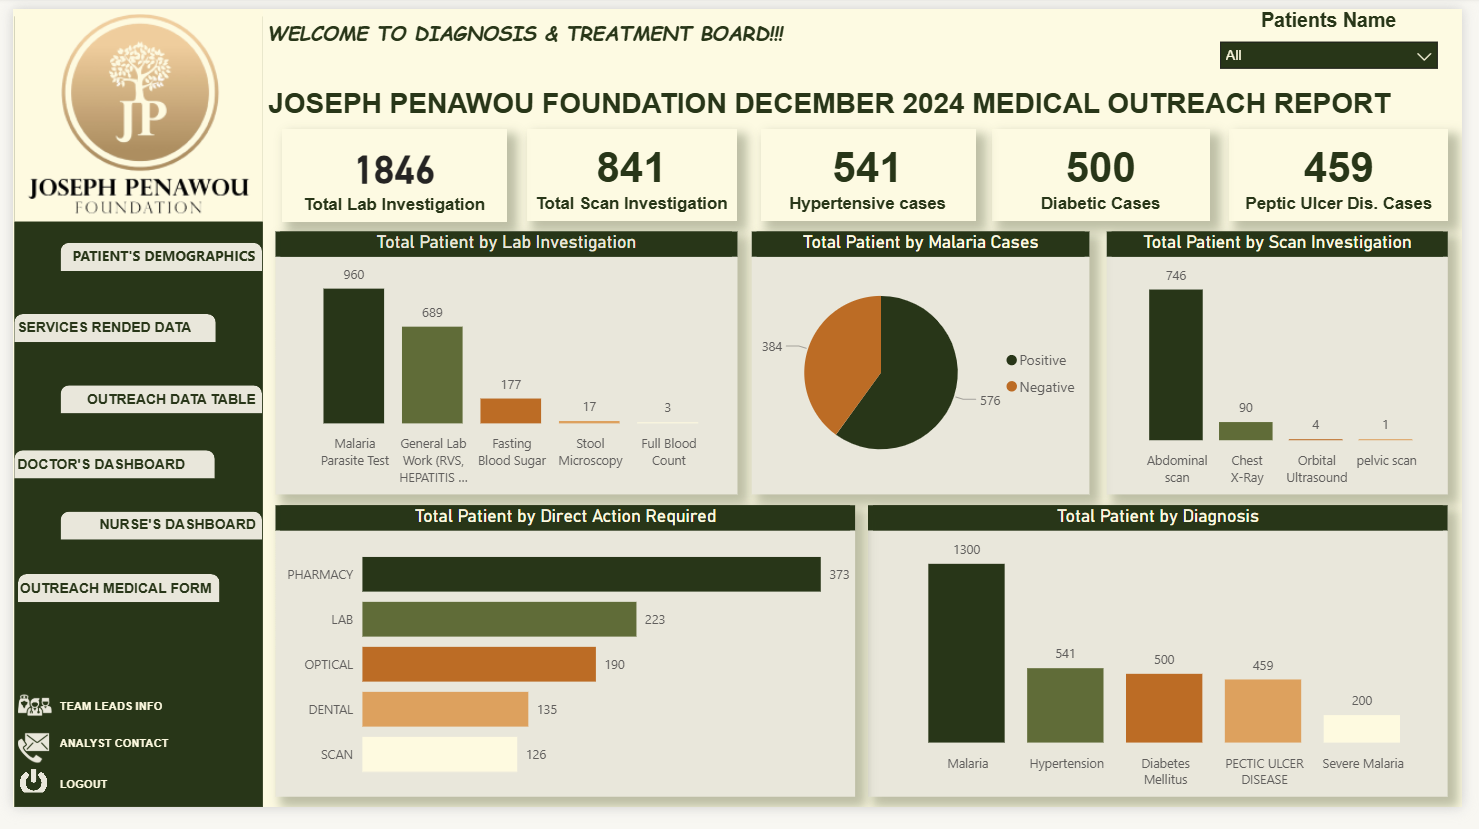

The page's visual inventory and layout, read from the dashboard file:
{"tool":"powerbi","page":{"name":"DIAGNOSIS & TREATMENT","canvas":[1380,760],"ordinal":1},"visuals":[{"type":"shape","box":[1.2,6.7,237.1,752.8],"z":0,"group":"g10"},{"type":"textbox","box":[237.5,70.5,1094.3,44.3],"z":0},{"type":"shape","box":[44.9,222.6,192.1,27],"z":0,"group":"g4"},{"type":"shape","box":[1,291,192.1,27],"z":0,"group":"g5"},{"type":"shape","box":[45,358.5,192.1,27],"z":0,"group":"g3"},{"type":"shape","box":[1.2,420.3,191,27],"z":0,"group":"g2"},{"type":"shape","box":[45,477.6,192.1,27],"z":0,"group":"g1"},{"type":"shape","box":[4.4,539.1,192.1,27],"z":0,"group":"g6"},{"type":"actionButton","box":[40.6,647.2,119.1,34.8],"z":0,"group":"g7"},{"type":"image","box":[0,683.1,39.3,41.6],"z":0,"group":"g8"},{"type":"actionButton","box":[40.7,721.4,69.7,34.8],"z":0,"group":"g9"},{"type":"image","box":[1.2,0,237.1,202.2],"z":1000,"group":"g10"},{"type":"slicer","title":"Patients Name","fields":{"Values":["OUTREACH DATASET.PATIENT NAME"]},"box":[1139.8,0,227.3,61.4],"z":1000},{"type":"actionButton","box":[39.4,212.5,195.5,43.8],"z":1000,"group":"g4"},{"type":"actionButton","box":[-0.1,283.8,174.2,39.3],"z":1000,"group":"g5"},{"type":"actionButton","box":[48.4,352.9,186.5,39.3],"z":1000,"group":"g3"},{"type":"actionButton","box":[-0.1,413.9,186.5,39.3],"z":1000,"group":"g2"},{"type":"actionButton","box":[48.4,470.9,186.5,39.3],"z":1000,"group":"g1"},{"type":"actionButton","box":[1.2,532.7,193.3,39.3],"z":1000,"group":"g6"},{"type":"image","box":[0,636,41.6,53.9],"z":1000,"group":"g7"},{"type":"actionButton","box":[40.6,682,118,34.8],"z":1000,"group":"g8"},{"type":"image","box":[0.3,719.2,39.3,32.6],"z":1000,"group":"g9"},{"type":"card","fields":{"Values":["CountNonNull(OUTREACH DATASET.LAB INVESTIGATION)"]},"box":[255.7,114.8,214.8,88.6],"z":2000},{"type":"group","id":"g1","title":"Group 1","box":[45,470.9,192.1,39.3],"z":2000,"group":"g10"},{"type":"card","fields":{"Values":["CountNonNull(OUTREACH DATASET.SCAN INVESTIGATION )"]},"box":[489.8,114.8,200,87.5],"z":3000},{"type":"group","id":"g2","title":"Group 2","box":[-0.1,413.9,192.3,39.3],"z":3000,"group":"g10"},{"type":"card","fields":{"Values":["CountNonNull(OUTREACH DATASET.DIAGNOSIS)"]},"box":[711.4,114.8,204.5,87.5],"z":4000},{"type":"group","id":"g3","title":"Group 3","box":[45,352.9,192.1,39.3],"z":4000,"group":"g10"},{"type":"group","id":"g4","title":"Group 4","box":[39.4,212.5,197.7,43.8],"z":5000,"group":"g10"},{"type":"columnChart","title":"Total Patient by Diagnosis","fields":{"Y":["CountNonNull(OUTREACH DATASET.PATIENT NAME)"],"Category":["OUTREACH DATASET.DIAGNOSIS"]},"box":[814.8,472.7,552.3,277.3],"z":5000},{"type":"group","id":"g5","title":"Group 5","box":[-0.1,283.8,193.3,39.3],"z":6000,"group":"g10"},{"type":"clusteredBarChart","title":"Total Patient by Direct Action Required","fields":{"Y":["CountNonNull(OUTREACH DATASET.PATIENT NAME)"],"Category":["OUTREACH DATASET.INVESTIGATION REQUIRED"]},"box":[250,472.7,552.3,277.3],"z":6000},{"type":"columnChart","title":"Total Patient by Scan Investigation","fields":{"Category":["OUTREACH DATASET.SCAN INVESTIGATION "],"Y":["CountNonNull(OUTREACH DATASET.PATIENT NAME)"]},"box":[1042,211.4,325,250],"z":7000},{"type":"group","id":"g6","title":"Group 6","box":[1.2,532.7,195.3,39.3],"z":7000,"group":"g10"},{"type":"columnChart","title":"Total Patient by Lab Investigation","fields":{"Y":["CountNonNull(OUTREACH DATASET.PATIENT NAME)"],"Category":["OUTREACH DATASET.LAB INVESTIGATION"]},"box":[250,211.4,439.8,250],"z":8000},{"type":"group","id":"g7","title":"Group 7","box":[0,636,159.7,53.9],"z":8000,"group":"g10"},{"type":"pieChart","title":"Total Patient by Malaria Cases","fields":{"Y":["CountNonNull(OUTREACH DATASET.PATIENT NAME)"],"Category":["OUTREACH DATASET.MALARIA PARASITE RESULT "]},"box":[703.4,211.4,321.6,250],"z":9000},{"type":"group","id":"g8","title":"Group 8","box":[0,682,158.6,42.7],"z":9000,"group":"g10"},{"type":"card","fields":{"Values":["CountNonNull(OUTREACH DATASET.DIAGNOSIS)"]},"box":[931.8,114.8,208,87.5],"z":10000},{"type":"group","id":"g9","title":"Group 9","box":[0.3,719.2,110.1,37.1],"z":10000,"group":"g10"},{"type":"card","fields":{"Values":["CountNonNull(OUTREACH DATASET.DIAGNOSIS)"]},"box":[1158,114.8,209.1,87.5],"z":11000},{"type":"textbox","box":[237.1,4.5,524.7,57.3],"z":12000},{"type":"image","box":[0,269.3,35.2,35.2],"z":13000},{"type":"image","box":[0,210.2,29.5,29.5],"z":14000},{"type":"group","id":"g10","title":"Dashboard side table","box":[-0.1,0,1379.9,759.6],"z":15000}]}

Visuals, with their boxes in screenshot pixels (x1, y1, x2, y2), scaled from the page's 1380x760 canvas onto the 1479x829 screenshot:
shape: Rect(1, 7, 255, 828)
textbox: Rect(255, 77, 1427, 125)
shape: Rect(48, 243, 254, 272)
shape: Rect(1, 317, 207, 347)
shape: Rect(48, 391, 254, 420)
shape: Rect(1, 458, 206, 488)
shape: Rect(48, 521, 254, 550)
shape: Rect(5, 588, 211, 617)
actionButton: Rect(44, 706, 171, 744)
image: Rect(0, 745, 42, 790)
actionButton: Rect(44, 787, 118, 825)
image: Rect(1, 0, 255, 221)
"Patients Name" slicer: Rect(1222, 0, 1465, 67)
actionButton: Rect(42, 232, 252, 280)
actionButton: Rect(0, 310, 187, 352)
actionButton: Rect(52, 385, 252, 428)
actionButton: Rect(0, 451, 200, 494)
actionButton: Rect(52, 514, 252, 557)
actionButton: Rect(1, 581, 208, 624)
image: Rect(0, 694, 45, 753)
actionButton: Rect(44, 744, 170, 782)
image: Rect(0, 784, 42, 820)
card - CountNonNull(OUTREACH DATASET.LAB INVESTIGATION): Rect(274, 125, 504, 222)
"Group 1" group: Rect(48, 514, 254, 557)
card - CountNonNull(OUTREACH DATASET.SCAN INVESTIGATION ): Rect(525, 125, 739, 221)
"Group 2" group: Rect(0, 451, 206, 494)
card - CountNonNull(OUTREACH DATASET.DIAGNOSIS): Rect(762, 125, 982, 221)
"Group 3" group: Rect(48, 385, 254, 428)
"Group 4" group: Rect(42, 232, 254, 280)
"Total Patient by Diagnosis" columnChart: Rect(873, 516, 1465, 818)
"Group 5" group: Rect(0, 310, 207, 352)
"Total Patient by Direct Action Required" clusteredBarChart: Rect(268, 516, 860, 818)
"Total Patient by Scan Investigation" columnChart: Rect(1117, 231, 1465, 503)
"Group 6" group: Rect(1, 581, 211, 624)
"Total Patient by Lab Investigation" columnChart: Rect(268, 231, 739, 503)
"Group 7" group: Rect(0, 694, 171, 753)
"Total Patient by Malaria Cases" pieChart: Rect(754, 231, 1099, 503)
"Group 8" group: Rect(0, 744, 170, 790)
card - CountNonNull(OUTREACH DATASET.DIAGNOSIS): Rect(999, 125, 1222, 221)
"Group 9" group: Rect(0, 784, 118, 825)
card - CountNonNull(OUTREACH DATASET.DIAGNOSIS): Rect(1241, 125, 1465, 221)
textbox: Rect(254, 5, 816, 67)
image: Rect(0, 294, 38, 332)
image: Rect(0, 229, 32, 261)
"Dashboard side table" group: Rect(0, 0, 1478, 828)
